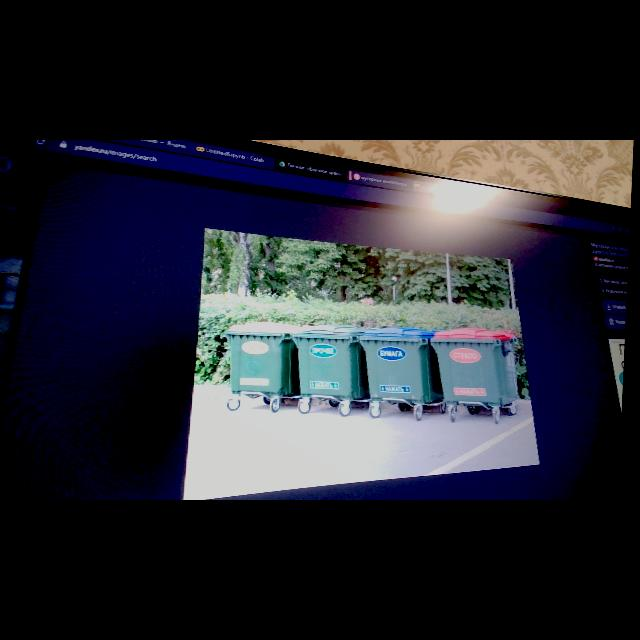Trash_Can_Closed: (431, 326, 525, 402), (359, 326, 448, 402), (293, 323, 374, 398), (227, 322, 306, 393)
